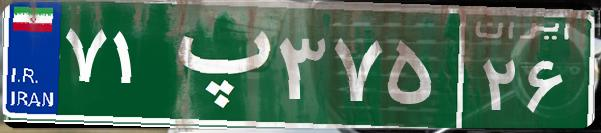1: (110, 28, 158, 105)
2: (475, 38, 525, 113)
3: (273, 28, 330, 110)
5: (385, 28, 445, 110)
6: (525, 38, 570, 115)
7: (330, 28, 385, 110), (57, 26, 110, 107)
پ: (158, 15, 273, 115)
